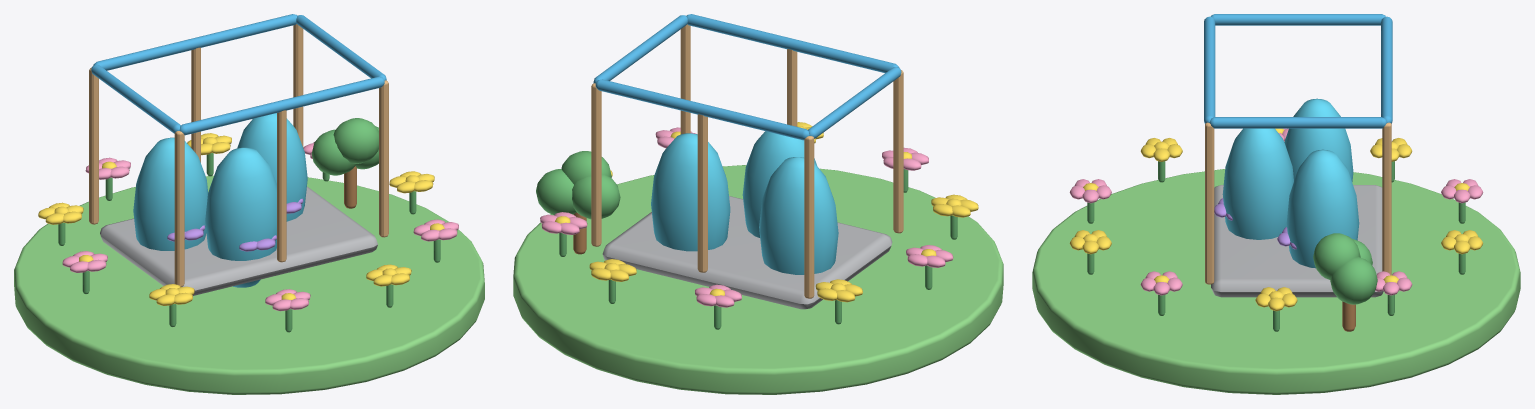
Rendered from region_botanical.glb.
3 renders of one model, left to right at view 1: azimuth 30°, elevation 25°; view 2: azimuth 150°, elevation 25°; view 3: azimuth 270°, elevation 25°, orthographic. The views are drawn at different scales.
Visible parts, largest first — view 1: round grassy plot, greenhouse floor, botanical glass, botanical glass.001, botanical glass.002, arched greenhouse ridge.001, arched greenhouse ridge, glasshouse frame, rounded foliage, glasshouse frame.004, glasshouse frame.002, glasshouse frame.001 (+6 smaller); view 2: round grassy plot, greenhouse floor, botanical glass.001, botanical glass.002, botanical glass, arched greenhouse ridge, arched greenhouse ridge.001, glasshouse frame.001, glasshouse frame.005, glasshouse frame.003, glasshouse frame, rounded foliage.002 (+6 smaller); view 3: round grassy plot, greenhouse floor, botanical glass, botanical glass.002, botanical glass.001, glasshouse edge.001, glasshouse edge, rounded foliage.002, glasshouse frame.004, glasshouse frame.005, rounded foliage, arched greenhouse ridge (+1 smaller).
Part boxes in pixels (x1,y1,x2,y2): round grassy plot: [14, 175, 484, 394]; greenhouse floor: [100, 186, 377, 295]; botanical glass: [205, 147, 276, 287]; botanical glass.001: [133, 137, 208, 250]; botanical glass.002: [237, 113, 307, 221]; arched greenhouse ridge.001: [179, 76, 384, 135]; arched greenhouse ridge: [93, 14, 297, 70]; glasshouse frame: [174, 131, 184, 286]; rounded foliage: [333, 118, 378, 163]; glasshouse frame.004: [379, 80, 388, 237]; glasshouse frame.002: [277, 110, 286, 262]; glasshouse frame.001: [89, 67, 98, 224]; round grassy plot: [513, 165, 1003, 394]; greenhouse floor: [602, 196, 892, 309]; botanical glass.001: [759, 157, 838, 274]; botanical glass.002: [651, 133, 730, 251]; botanical glass: [742, 131, 816, 237]; arched greenhouse ridge: [595, 79, 809, 140]; arched greenhouse ridge.001: [686, 14, 899, 72]; glasshouse frame.001: [804, 136, 814, 298]; glasshouse frame.005: [591, 83, 601, 246]; glasshouse frame.003: [697, 114, 707, 272]; glasshouse frame: [893, 70, 903, 233]; rounded foliage.002: [536, 169, 576, 214]; round grassy plot: [1032, 169, 1520, 394]; greenhouse floor: [1211, 185, 1383, 297]; botanical glass: [1222, 128, 1293, 239]; botanical glass.002: [1286, 149, 1359, 268]; botanical glass.001: [1284, 98, 1353, 181]; glasshouse edge.001: [1209, 117, 1386, 128]; glasshouse edge: [1211, 14, 1385, 25]; rounded foliage.002: [1330, 257, 1377, 304]; glasshouse frame.004: [1205, 122, 1214, 284]; glasshouse frame.005: [1382, 122, 1391, 275]; rounded foliage: [1313, 233, 1360, 279]; arched greenhouse ridge: [1381, 16, 1392, 123].
Bounding box in the file's own units: 3.36 × 1.73 × 3.36.
